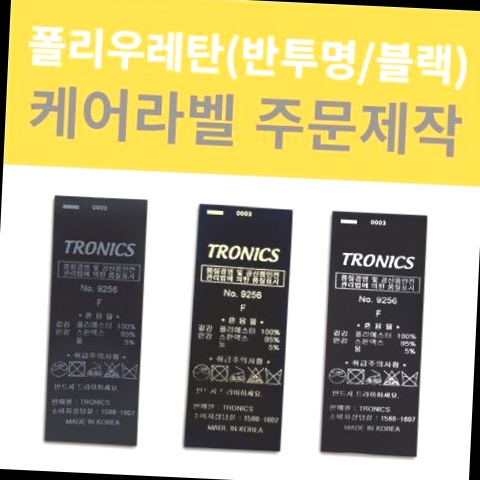DN_bleach: (383, 367, 401, 390), (247, 365, 266, 386), (106, 360, 122, 381)
DN_tumble_dry: (209, 362, 231, 385), (67, 356, 88, 380), (347, 364, 367, 387)
DN_wash: (264, 363, 284, 388), (401, 369, 421, 390), (123, 361, 141, 380)
dry_clean: (326, 364, 349, 387), (49, 359, 68, 382), (192, 363, 212, 383)
iron: (366, 365, 384, 387), (231, 364, 247, 384), (89, 358, 106, 376)
